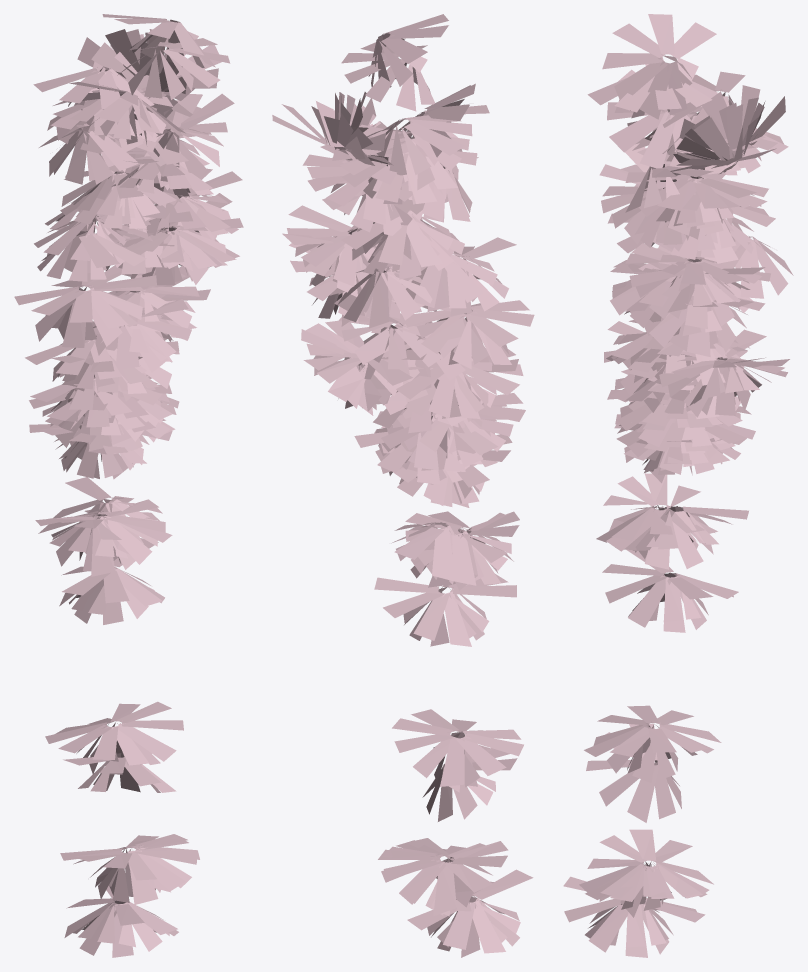
File: CeilingFlower2.fbx
3 renders of one model, left to right at view 1: azimuth 30°, elevation 25°; view 2: azimuth 150°, elevation 25°; view 3: azimuth 270°, elevation 25°, orthographic. The views are drawn at different scales.
Parts seen in each view (by area): view 1: greenBudVine8Flower1; view 2: greenBudVine8Flower1; view 3: greenBudVine8Flower1.
Boxes of the visible parts, <box> form: greenBudVine8Flower1: <box>14,14,243,957</box>; greenBudVine8Flower1: <box>272,14,534,957</box>; greenBudVine8Flower1: <box>563,14,793,957</box>.
Bounding box in the file's own units: 1.56 × 6.16 × 1.37.
